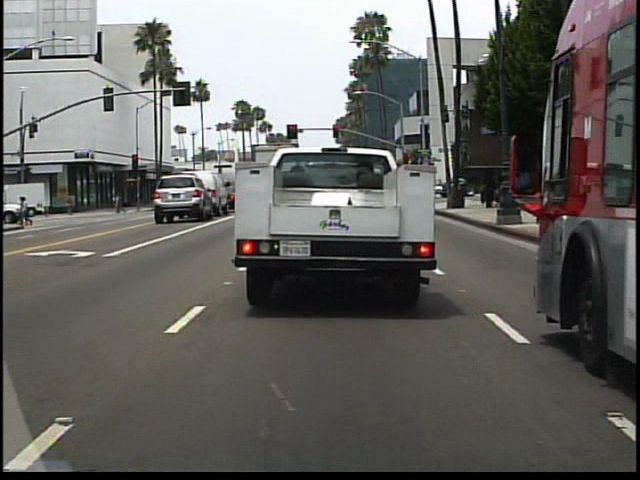person: (66, 190, 80, 218)
